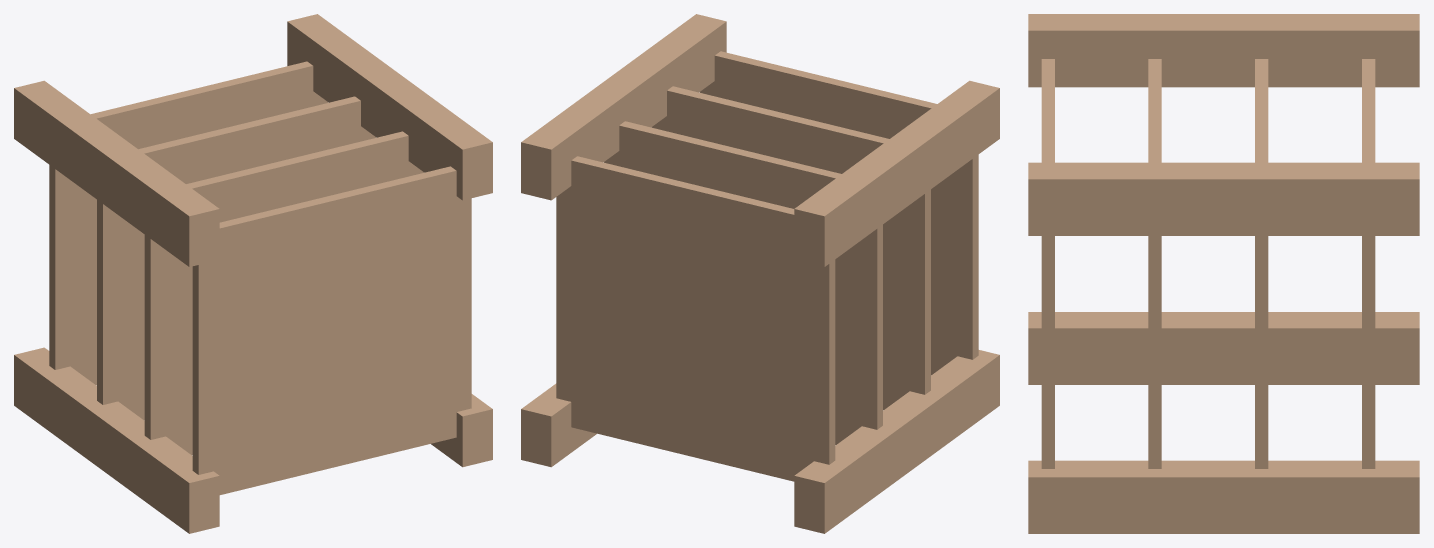
The model's file is bookshelf.glb.
The picture shows the model from 3 angles, left to right: view 1: azimuth 30°, elevation 25°; view 2: azimuth 150°, elevation 25°; view 3: azimuth 270°, elevation 25°; orthographic projection. The views are drawn at different scales.
Parts seen in each view (by area): view 1: furniture/bookshelf; view 2: furniture/bookshelf; view 3: furniture/bookshelf.
Boxes of the visible parts, left/top/right/bottom form: furniture/bookshelf: left=14, top=14, right=492, bottom=533; furniture/bookshelf: left=521, top=14, right=999, bottom=533; furniture/bookshelf: left=1028, top=14, right=1419, bottom=533.
Size of the model in its own units: 1 by 1 by 1.
